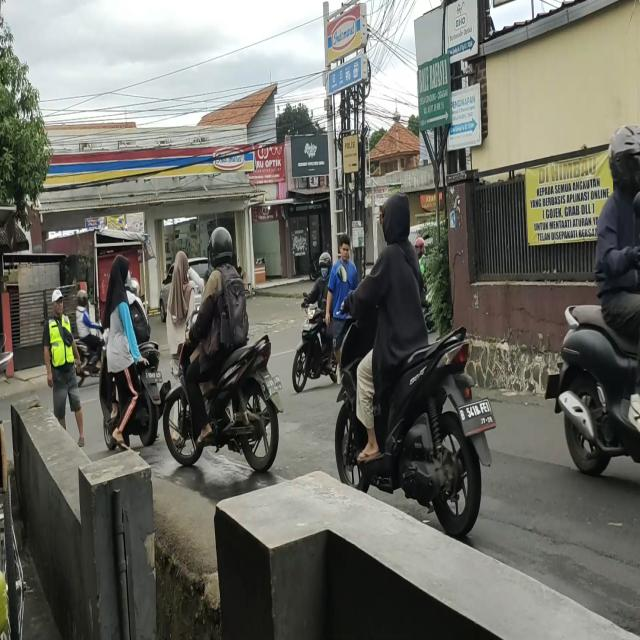helmet: (609, 123, 640, 186), (207, 225, 232, 272), (317, 250, 331, 276)
no-helmet: (382, 192, 409, 248)
